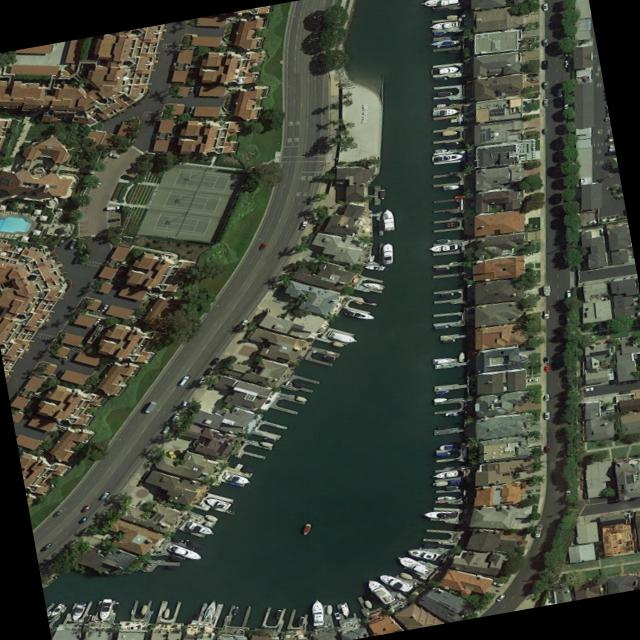large-vehicle: (177, 373, 191, 385), (144, 400, 157, 412), (543, 283, 551, 295)
ship: (163, 540, 205, 561), (364, 576, 396, 603), (394, 553, 433, 574), (377, 571, 414, 592), (404, 546, 441, 560), (185, 519, 217, 535), (326, 329, 360, 343), (342, 307, 378, 320), (223, 471, 254, 485), (203, 495, 232, 508), (311, 596, 324, 624), (203, 597, 219, 619), (98, 597, 114, 618), (431, 151, 464, 161), (381, 240, 394, 264), (428, 19, 459, 29), (382, 206, 395, 229), (422, 509, 457, 517), (430, 64, 458, 74), (428, 242, 459, 251), (359, 279, 386, 289), (432, 468, 458, 478), (71, 602, 86, 619), (430, 37, 460, 45), (420, 0, 459, 6), (49, 602, 65, 616), (432, 106, 459, 114), (185, 539, 205, 549), (300, 520, 313, 534), (433, 355, 454, 363), (340, 601, 350, 616), (439, 442, 460, 449), (203, 512, 219, 521), (436, 89, 453, 97), (399, 570, 414, 579), (363, 263, 385, 269), (442, 183, 460, 189), (258, 439, 273, 446), (171, 535, 184, 543), (437, 494, 457, 499), (441, 290, 455, 297), (444, 139, 458, 146), (322, 352, 336, 359), (432, 479, 448, 485), (295, 394, 308, 401), (363, 598, 373, 607), (433, 396, 448, 402), (436, 265, 451, 271), (436, 387, 450, 393), (437, 449, 451, 455), (445, 410, 459, 416), (379, 187, 386, 199), (433, 74, 447, 80), (83, 612, 92, 621), (140, 603, 148, 613), (434, 147, 447, 153), (163, 606, 170, 617), (113, 600, 120, 611), (442, 129, 457, 134), (274, 608, 282, 617), (232, 605, 240, 614), (367, 253, 376, 261), (434, 29, 448, 34), (435, 323, 449, 328), (442, 337, 456, 342), (326, 604, 333, 614), (297, 615, 304, 625), (436, 237, 450, 242), (333, 610, 341, 618), (446, 13, 458, 18), (446, 484, 458, 489), (459, 350, 465, 360), (449, 478, 461, 483), (436, 102, 445, 107), (167, 564, 177, 567)
small-vehicle: (236, 317, 248, 329), (533, 523, 543, 536), (77, 513, 90, 522), (196, 375, 207, 385), (51, 508, 63, 517), (99, 489, 111, 498), (495, 592, 506, 601), (209, 355, 220, 364), (579, 385, 594, 391), (55, 368, 64, 378), (257, 241, 267, 250), (299, 219, 308, 229), (68, 237, 77, 247), (80, 503, 91, 511), (134, 499, 145, 507), (161, 423, 170, 432), (42, 541, 53, 548), (526, 71, 538, 77), (204, 366, 213, 374), (57, 236, 66, 244), (100, 302, 109, 310), (541, 96, 548, 106), (106, 204, 120, 209), (168, 449, 176, 457), (172, 411, 180, 419), (93, 316, 101, 324), (543, 443, 550, 452), (542, 309, 549, 318), (566, 288, 572, 298), (526, 75, 538, 80), (541, 37, 548, 45), (626, 378, 637, 383), (492, 580, 503, 585), (615, 379, 626, 384), (619, 388, 630, 393), (108, 216, 119, 221), (544, 410, 550, 419), (564, 58, 570, 67), (557, 87, 563, 96), (541, 59, 547, 68), (527, 376, 539, 380), (542, 79, 548, 87), (542, 1, 548, 9), (62, 355, 68, 363), (108, 152, 120, 156), (564, 102, 569, 111), (543, 355, 549, 362), (543, 393, 549, 400), (544, 364, 550, 371), (542, 126, 548, 133), (189, 105, 195, 112)
